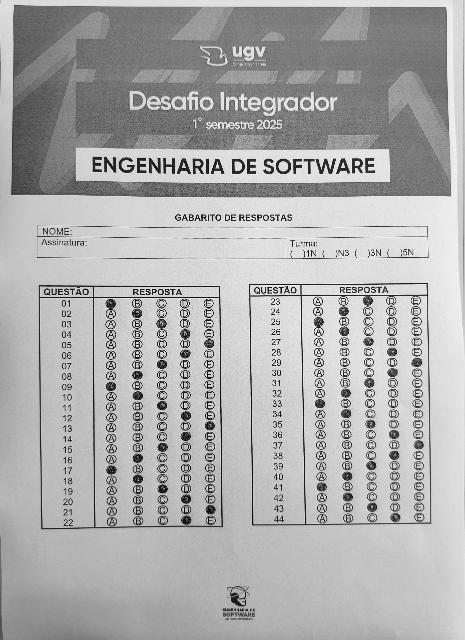bolinha: (103, 296, 119, 310), (178, 350, 198, 360), (388, 448, 402, 462), (336, 306, 354, 316), (153, 318, 169, 329), (181, 514, 195, 526), (314, 316, 328, 328), (386, 346, 400, 358), (411, 356, 425, 368), (342, 470, 356, 482), (365, 502, 379, 514), (390, 512, 404, 524), (154, 401, 168, 412), (179, 431, 193, 442), (363, 418, 377, 429), (130, 371, 149, 379), (335, 328, 351, 337), (130, 309, 144, 319), (104, 382, 118, 392), (131, 453, 145, 463), (106, 465, 120, 475), (364, 378, 378, 388), (315, 399, 329, 409), (338, 409, 352, 419), (411, 440, 425, 450), (316, 482, 330, 492), (158, 442, 170, 453), (387, 367, 400, 377), (178, 329, 192, 338), (130, 392, 144, 401), (340, 389, 354, 398), (180, 494, 192, 504), (388, 429, 400, 439), (366, 460, 378, 470), (342, 492, 354, 502), (204, 506, 218, 514), (361, 297, 375, 305), (182, 411, 192, 422), (157, 360, 167, 370), (364, 336, 374, 346), (204, 340, 216, 348), (204, 422, 216, 430), (132, 475, 144, 483), (156, 485, 168, 493)
